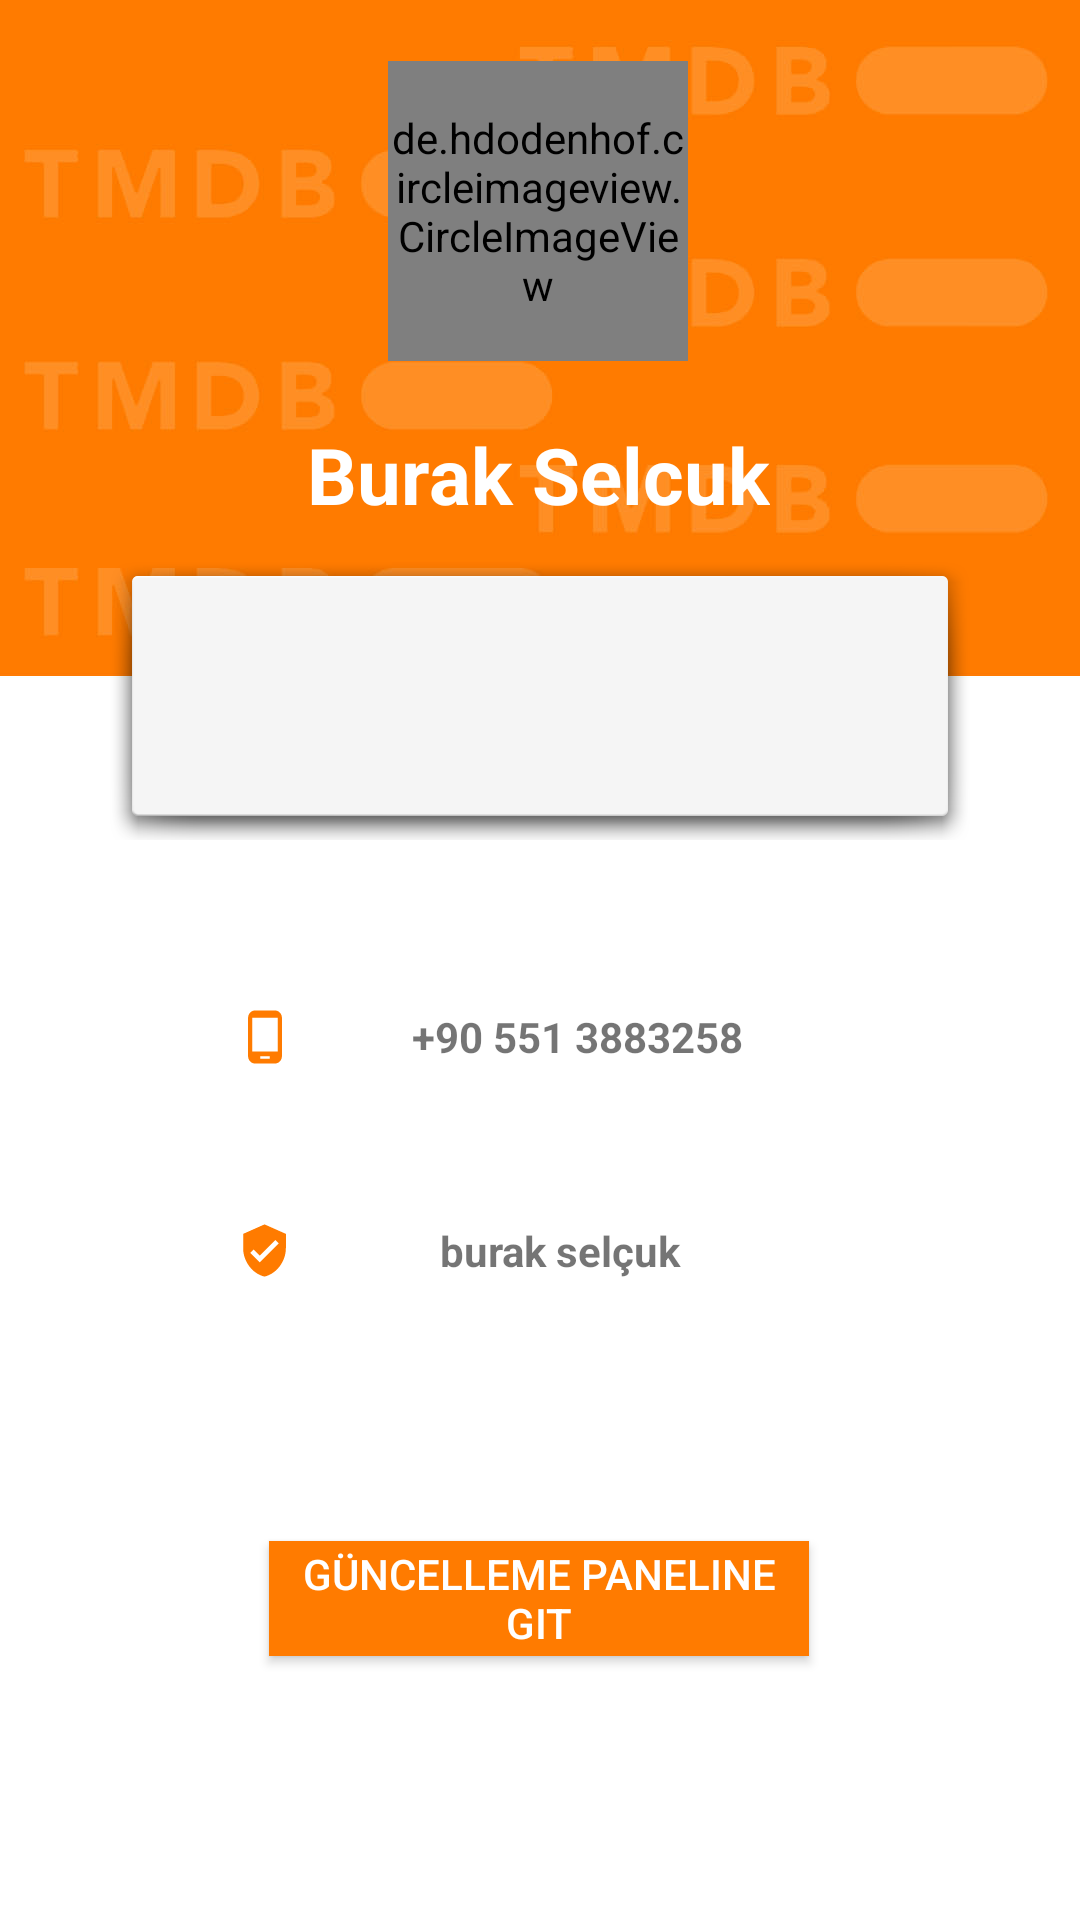

Icons on this 1080w x 1920h Android screen, each with its box as (x1, y1, x2, y2):
phone android: (248, 1010, 282, 1064)
verified user: (243, 1224, 286, 1277)
